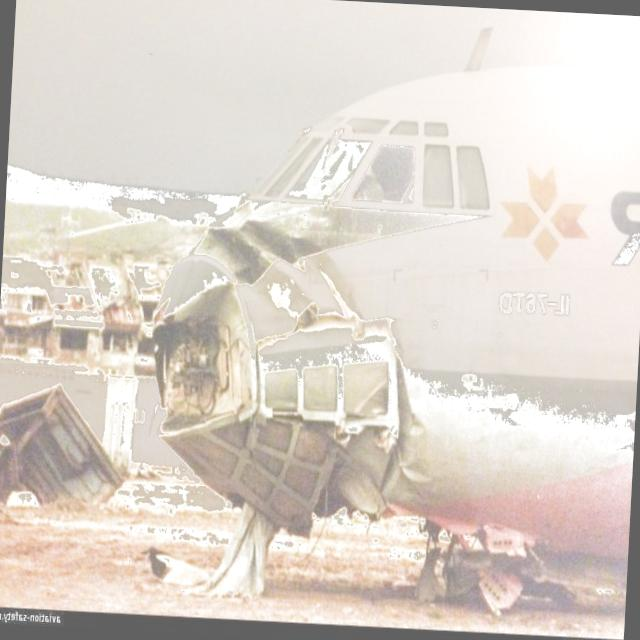dent: (153, 271, 328, 598), (434, 520, 579, 614), (258, 255, 398, 349), (200, 204, 350, 284), (318, 429, 396, 520), (304, 140, 369, 197), (400, 462, 436, 486), (403, 411, 429, 438)
